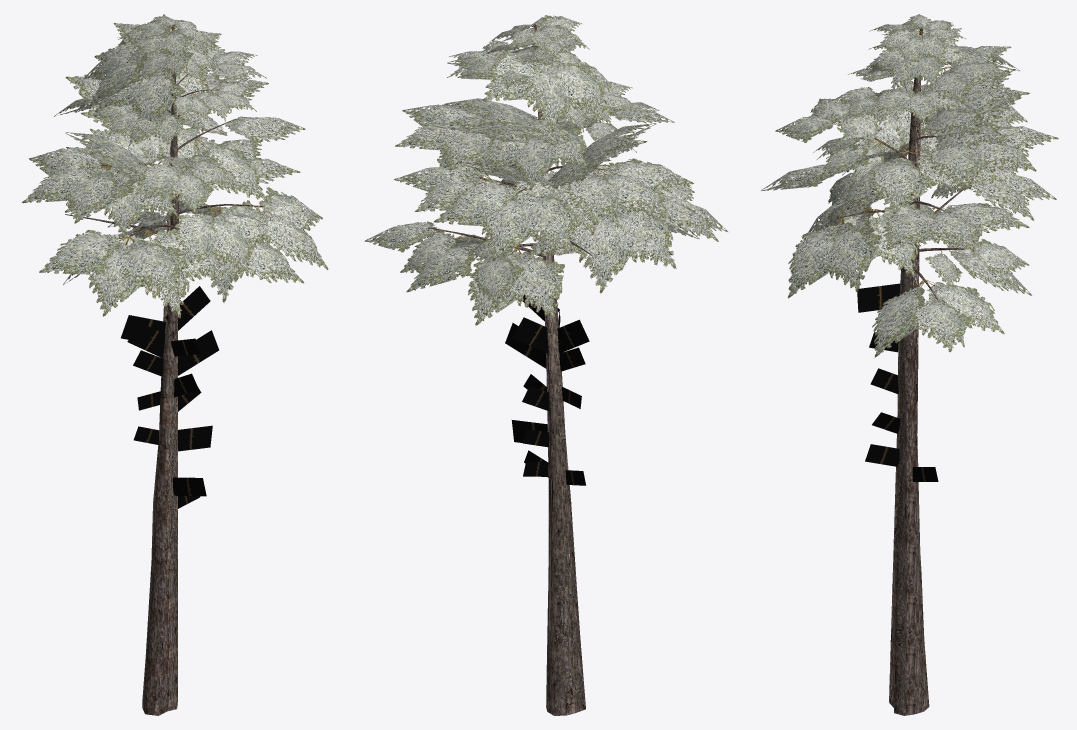
The model's file is Win_Sequia02.DAE.
3 renders of one model, left to right at view 1: azimuth 30°, elevation 25°; view 2: azimuth 150°, elevation 25°; view 3: azimuth 270°, elevation 25°, orthographic. The views are drawn at different scales.
Visible parts, largest first — view 1: A_Sequia512, A_Sequia256; view 2: A_Sequia512, A_Sequia256; view 3: A_Sequia512, A_Sequia256.
Boxes of the visible parts, x1=… form: A_Sequia512: x1=22, y1=14, x2=328, y2=715; A_Sequia256: x1=22, y1=15, x2=327, y2=712; A_Sequia512: x1=365, y1=15, x2=727, y2=715; A_Sequia256: x1=364, y1=16, x2=727, y2=708; A_Sequia512: x1=761, y1=14, x2=1058, y2=715; A_Sequia256: x1=761, y1=21, x2=1058, y2=715.
Size of what is drawn, in the model's own units: 1349 by 1094 by 2742.
